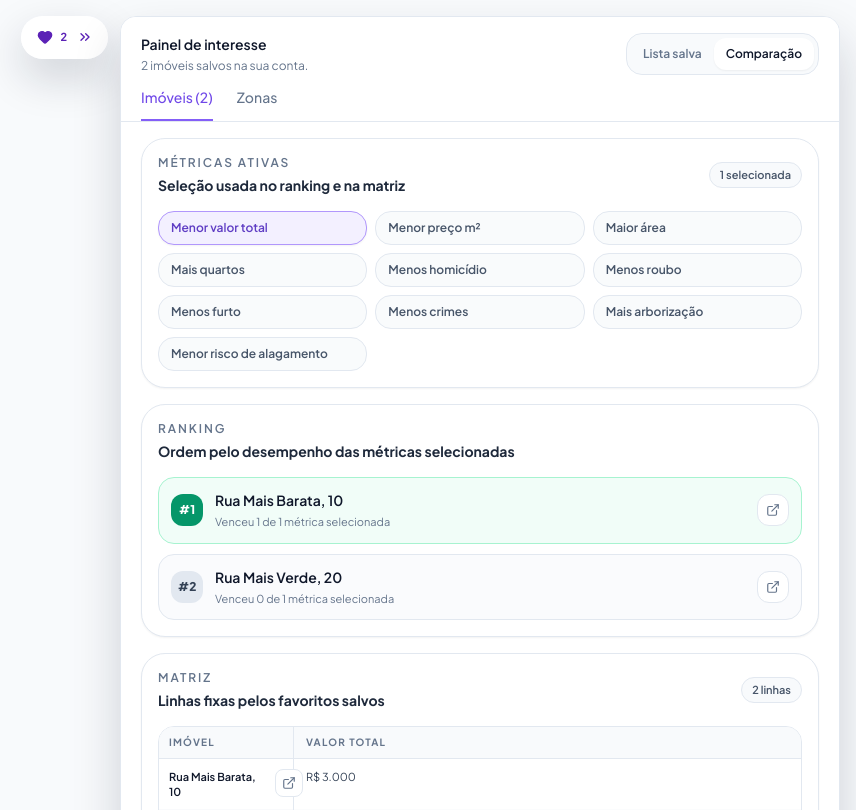
Test: FavoritesPanel › uses the selected metrics as the single source of truth for ranking and matrix columns
Check: the text "2 imóveis salvos na sua conta." is shown, box x1=141 y1=58 x2=308 y2=74
Check: the column heading "Valor total" is shown, box x1=293 y1=727 x2=801 y2=758
Click the button "Mais arborização": (697, 312) x1=593 y1=295 x2=802 y2=329
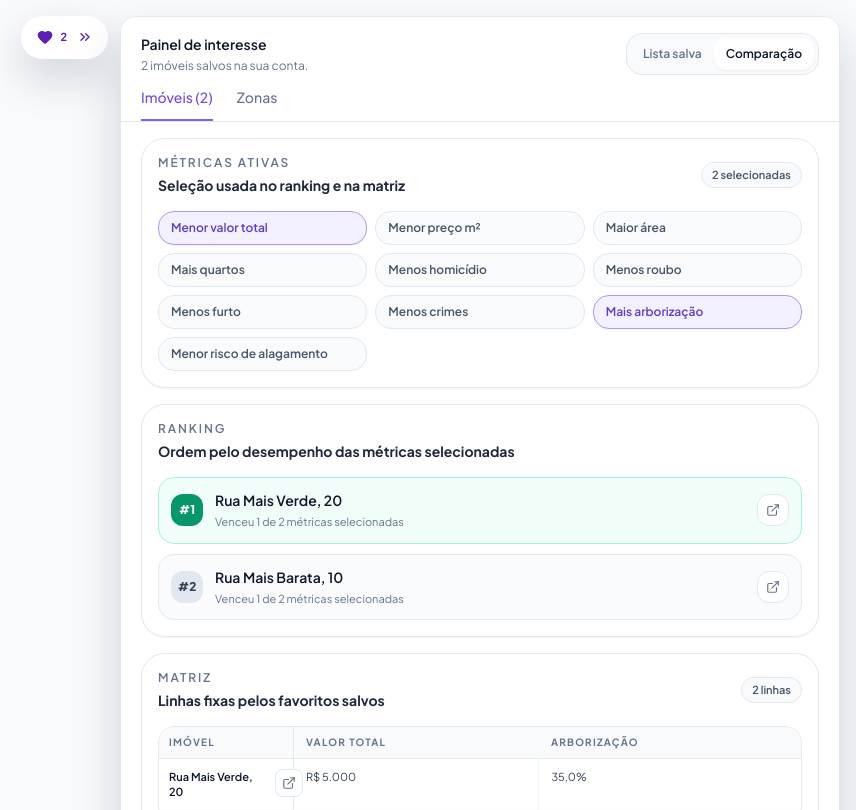
Check: the text "Venceu 1 de 2 métricas selecionadas" is shown 2 times, box x1=215 y1=515 x2=404 y2=528; x1=215 y1=592 x2=404 y2=604
Check: the column heading "Arborização" is shown, box x1=539 y1=727 x2=801 y2=758
Click the button "Menos roubo": (697, 270) x1=593 y1=253 x2=802 y2=287
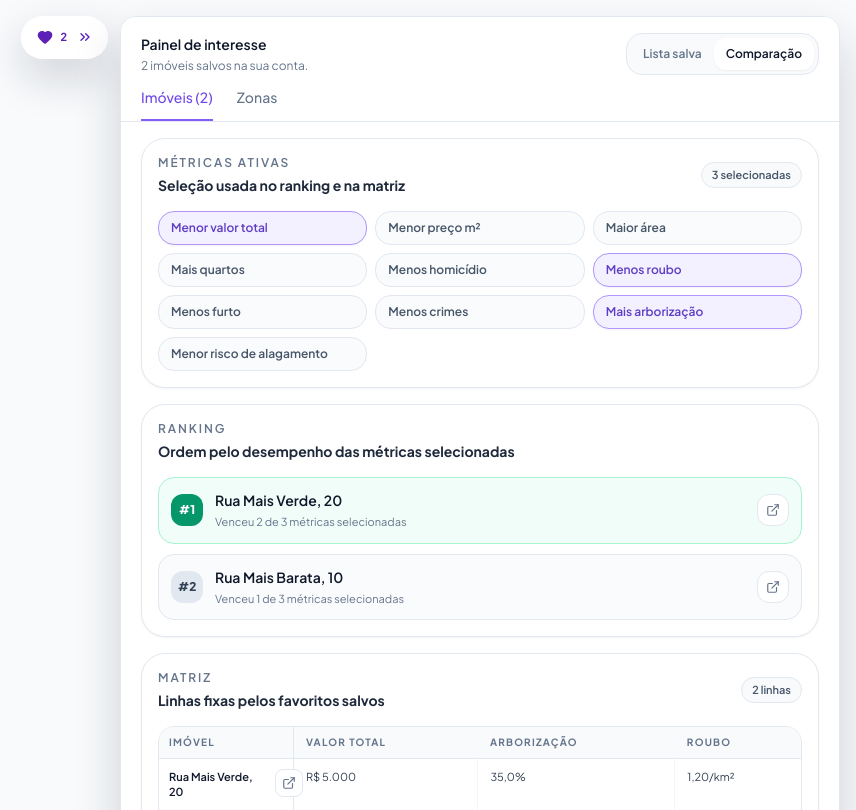
Check: the 1st text "Rua Mais Verde, 20" is shown, box x1=215 y1=491 x2=342 y2=509
Check: the text "Venceu 2 de 3 métricas selecionadas" is shown, box x1=215 y1=515 x2=406 y2=528
Click the button "Menor valor total": (263, 228) x1=158 y1=211 x2=367 y2=245
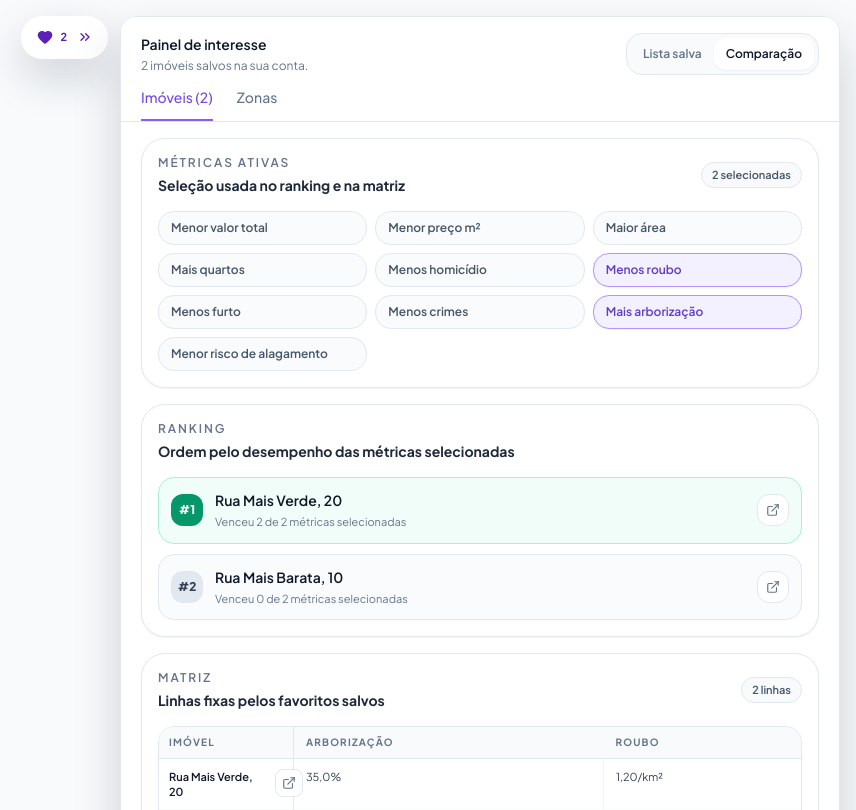
Check: the 1st text "Rua Mais Verde, 20" is shown, box x1=215 y1=491 x2=342 y2=509
Check: the text "Venceu 2 de 2 métricas selecionadas" is shown, box x1=215 y1=515 x2=406 y2=528
